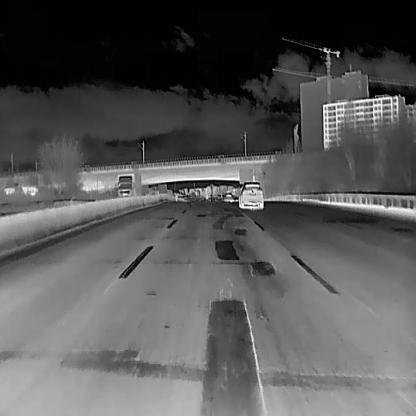car: (237, 181, 263, 208), (115, 171, 140, 195), (224, 192, 234, 202)
